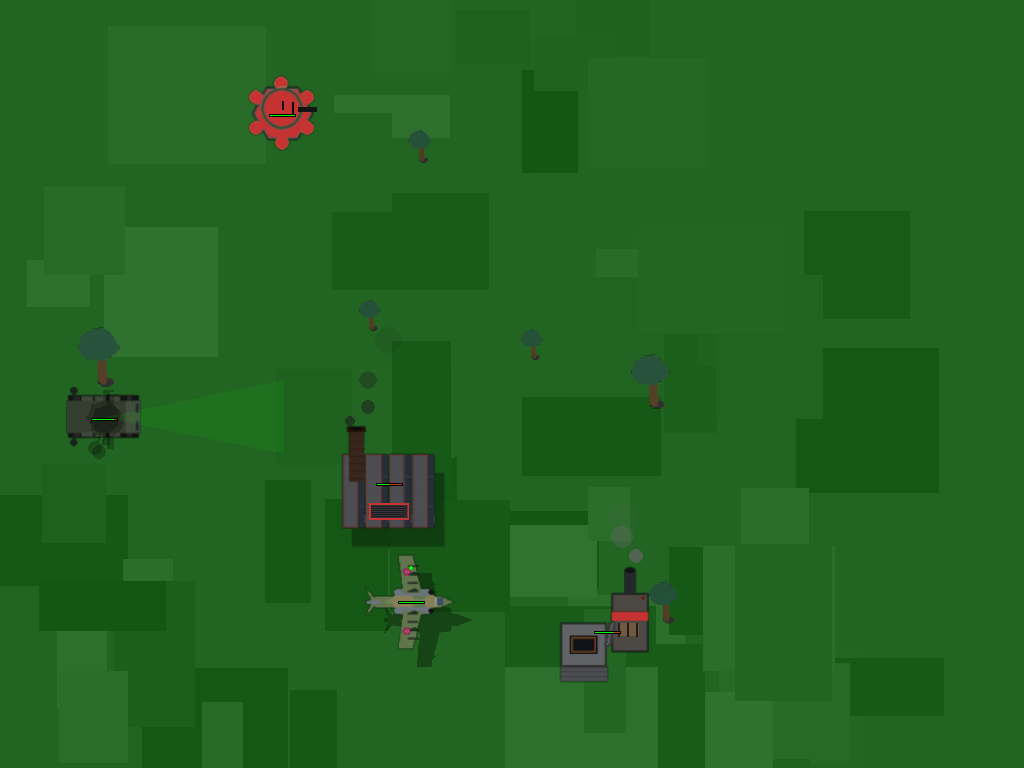AttackPlane_rus: (382, 572, 439, 629)
Bunker: (244, 75, 320, 151)
FactoryBuilding: (328, 421, 450, 543)
MiningRig: (555, 578, 658, 681)
RadarBuilding: (61, 374, 146, 459)
